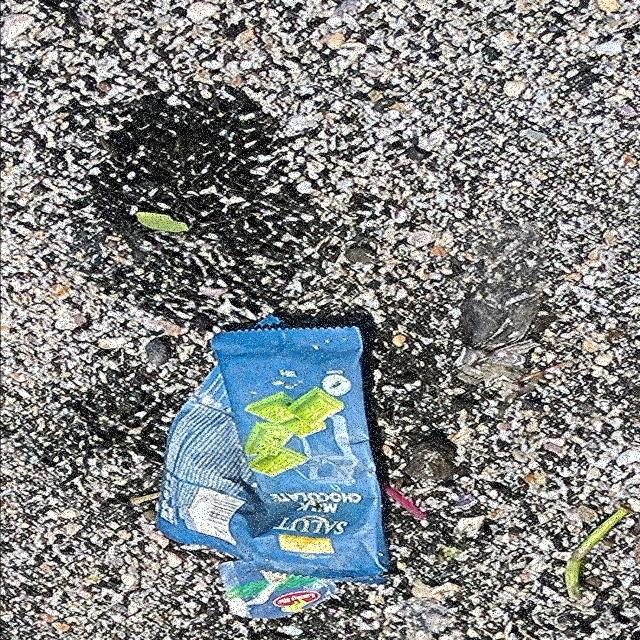plastic_waste: (154, 325, 394, 587), (216, 561, 344, 621)
